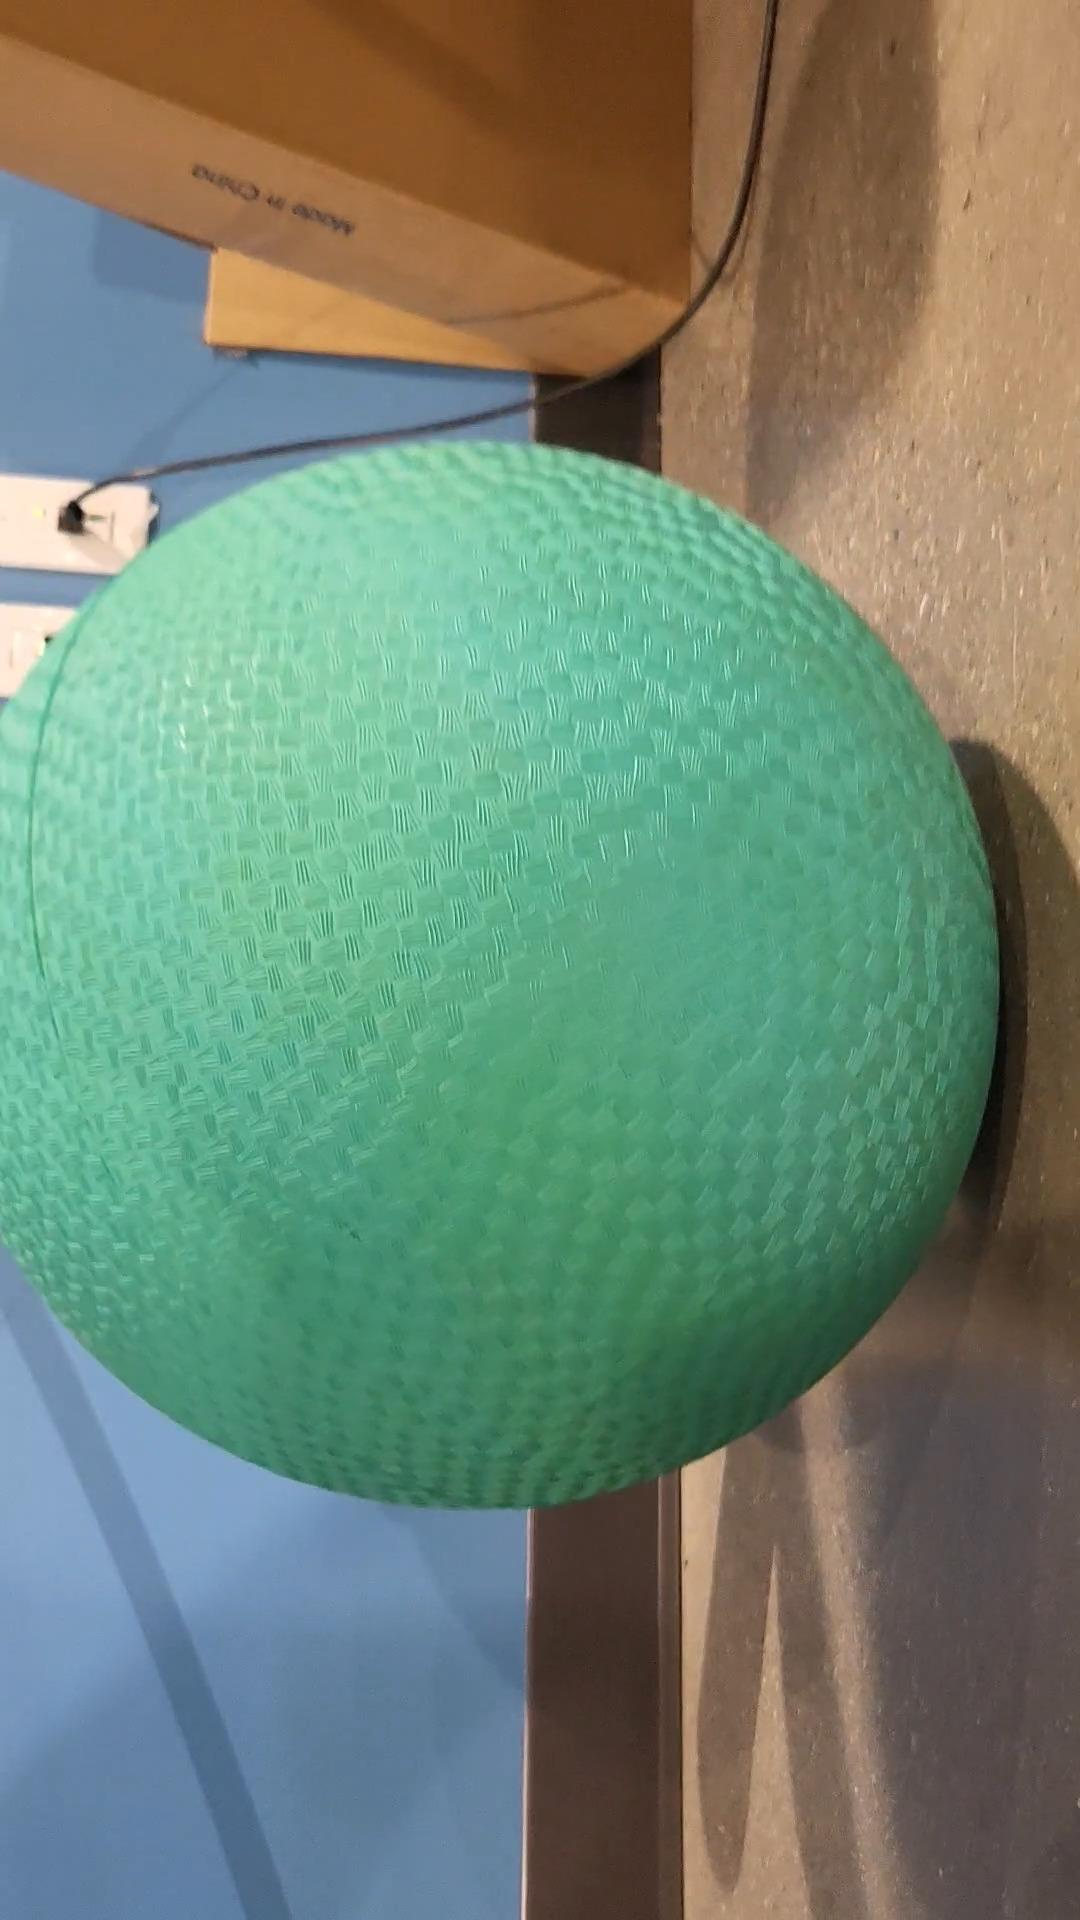algae: (0, 443, 1002, 1510)
